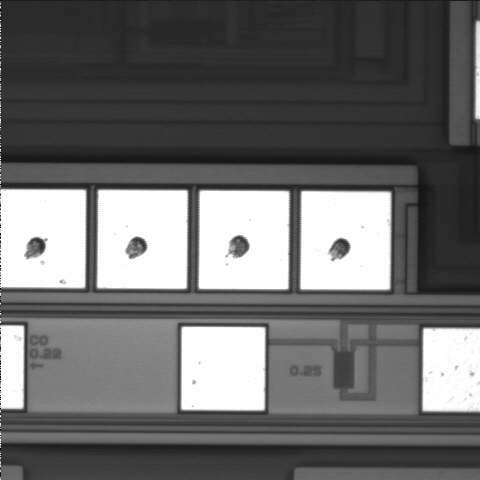pad: (97, 190, 187, 289), (301, 191, 391, 290), (199, 191, 289, 289), (181, 327, 265, 410)
